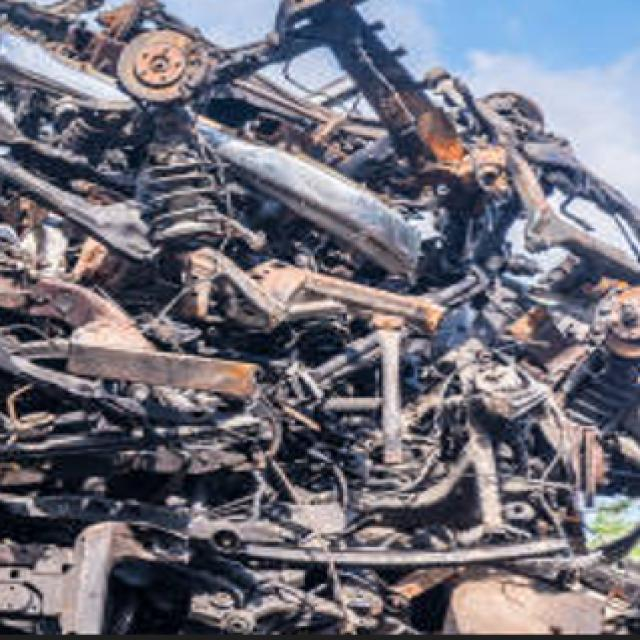shock absorber: (139, 135, 218, 250)
